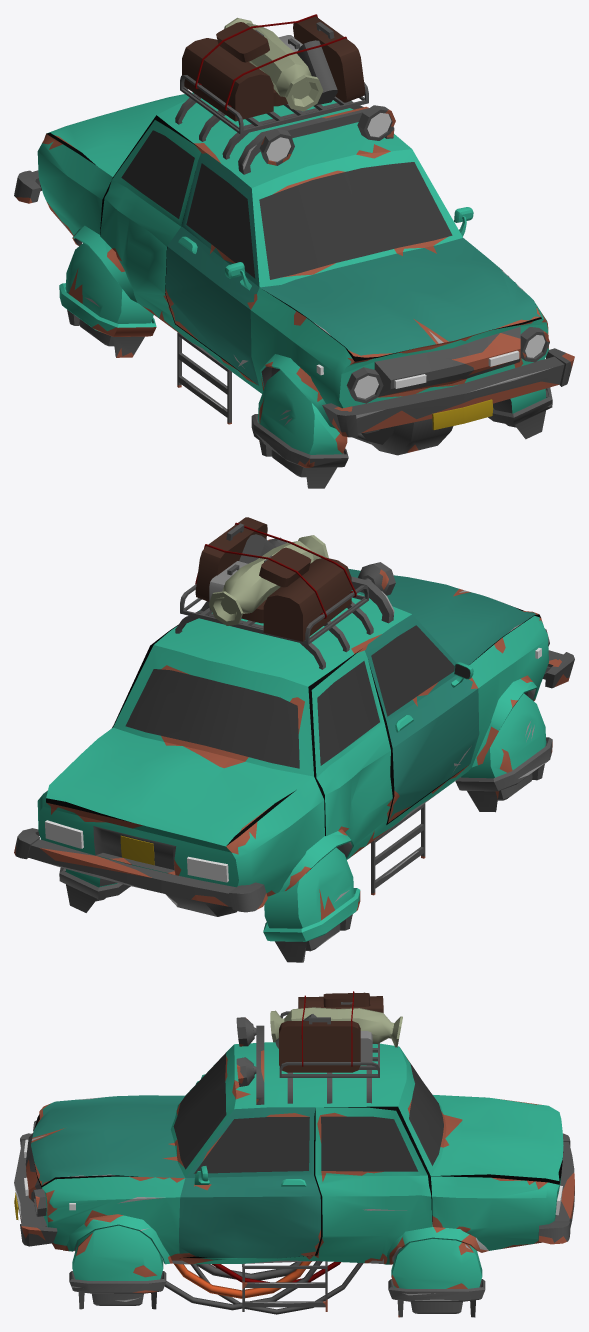
Rendered from RustyBagsCar.fbx.
The picture shows the model from 3 angles, top to bottom: view 1: azimuth 30°, elevation 25°; view 2: azimuth 150°, elevation 25°; view 3: azimuth 270°, elevation 25°; orthographic projection. The views are drawn at different scales.
Visible parts, largest first — view 1: carrozo, nozzle frente esq.001, nozzle traz esq.001, nozzle frente esq; view 2: carrozo, nozzle traz esq.001, nozzle frente esq.001, nozzle traz esq; view 3: carrozo, nozzle frente esq, nozzle traz esq, cabo004, cabo001, cabo, cabo003, cabo002.
Boxes of the visible parts, x1,y1,x2,y2 form: carrozo: (14,14,574,455); nozzle frente esq.001: (251,370,348,488); nozzle traz esq.001: (59,243,156,357); nozzle frente esq: (488,387,552,439); carrozo: (14,517,574,916); nozzle traz esq.001: (263,847,360,962); nozzle frente esq.001: (455,693,552,812); nozzle traz esq: (59,867,130,912); carrozo: (14,991,574,1311); nozzle frente esq: (69,1225,166,1309); nozzle traz esq: (388,1239,485,1317); cabo004: (174,1261,311,1298); cabo001: (164,1261,322,1310); cabo: (190,1263,363,1314); cabo003: (196,1261,311,1280); cabo002: (211,1261,341,1282).
Bounding box in the file's own units: 172 × 235 × 381.
